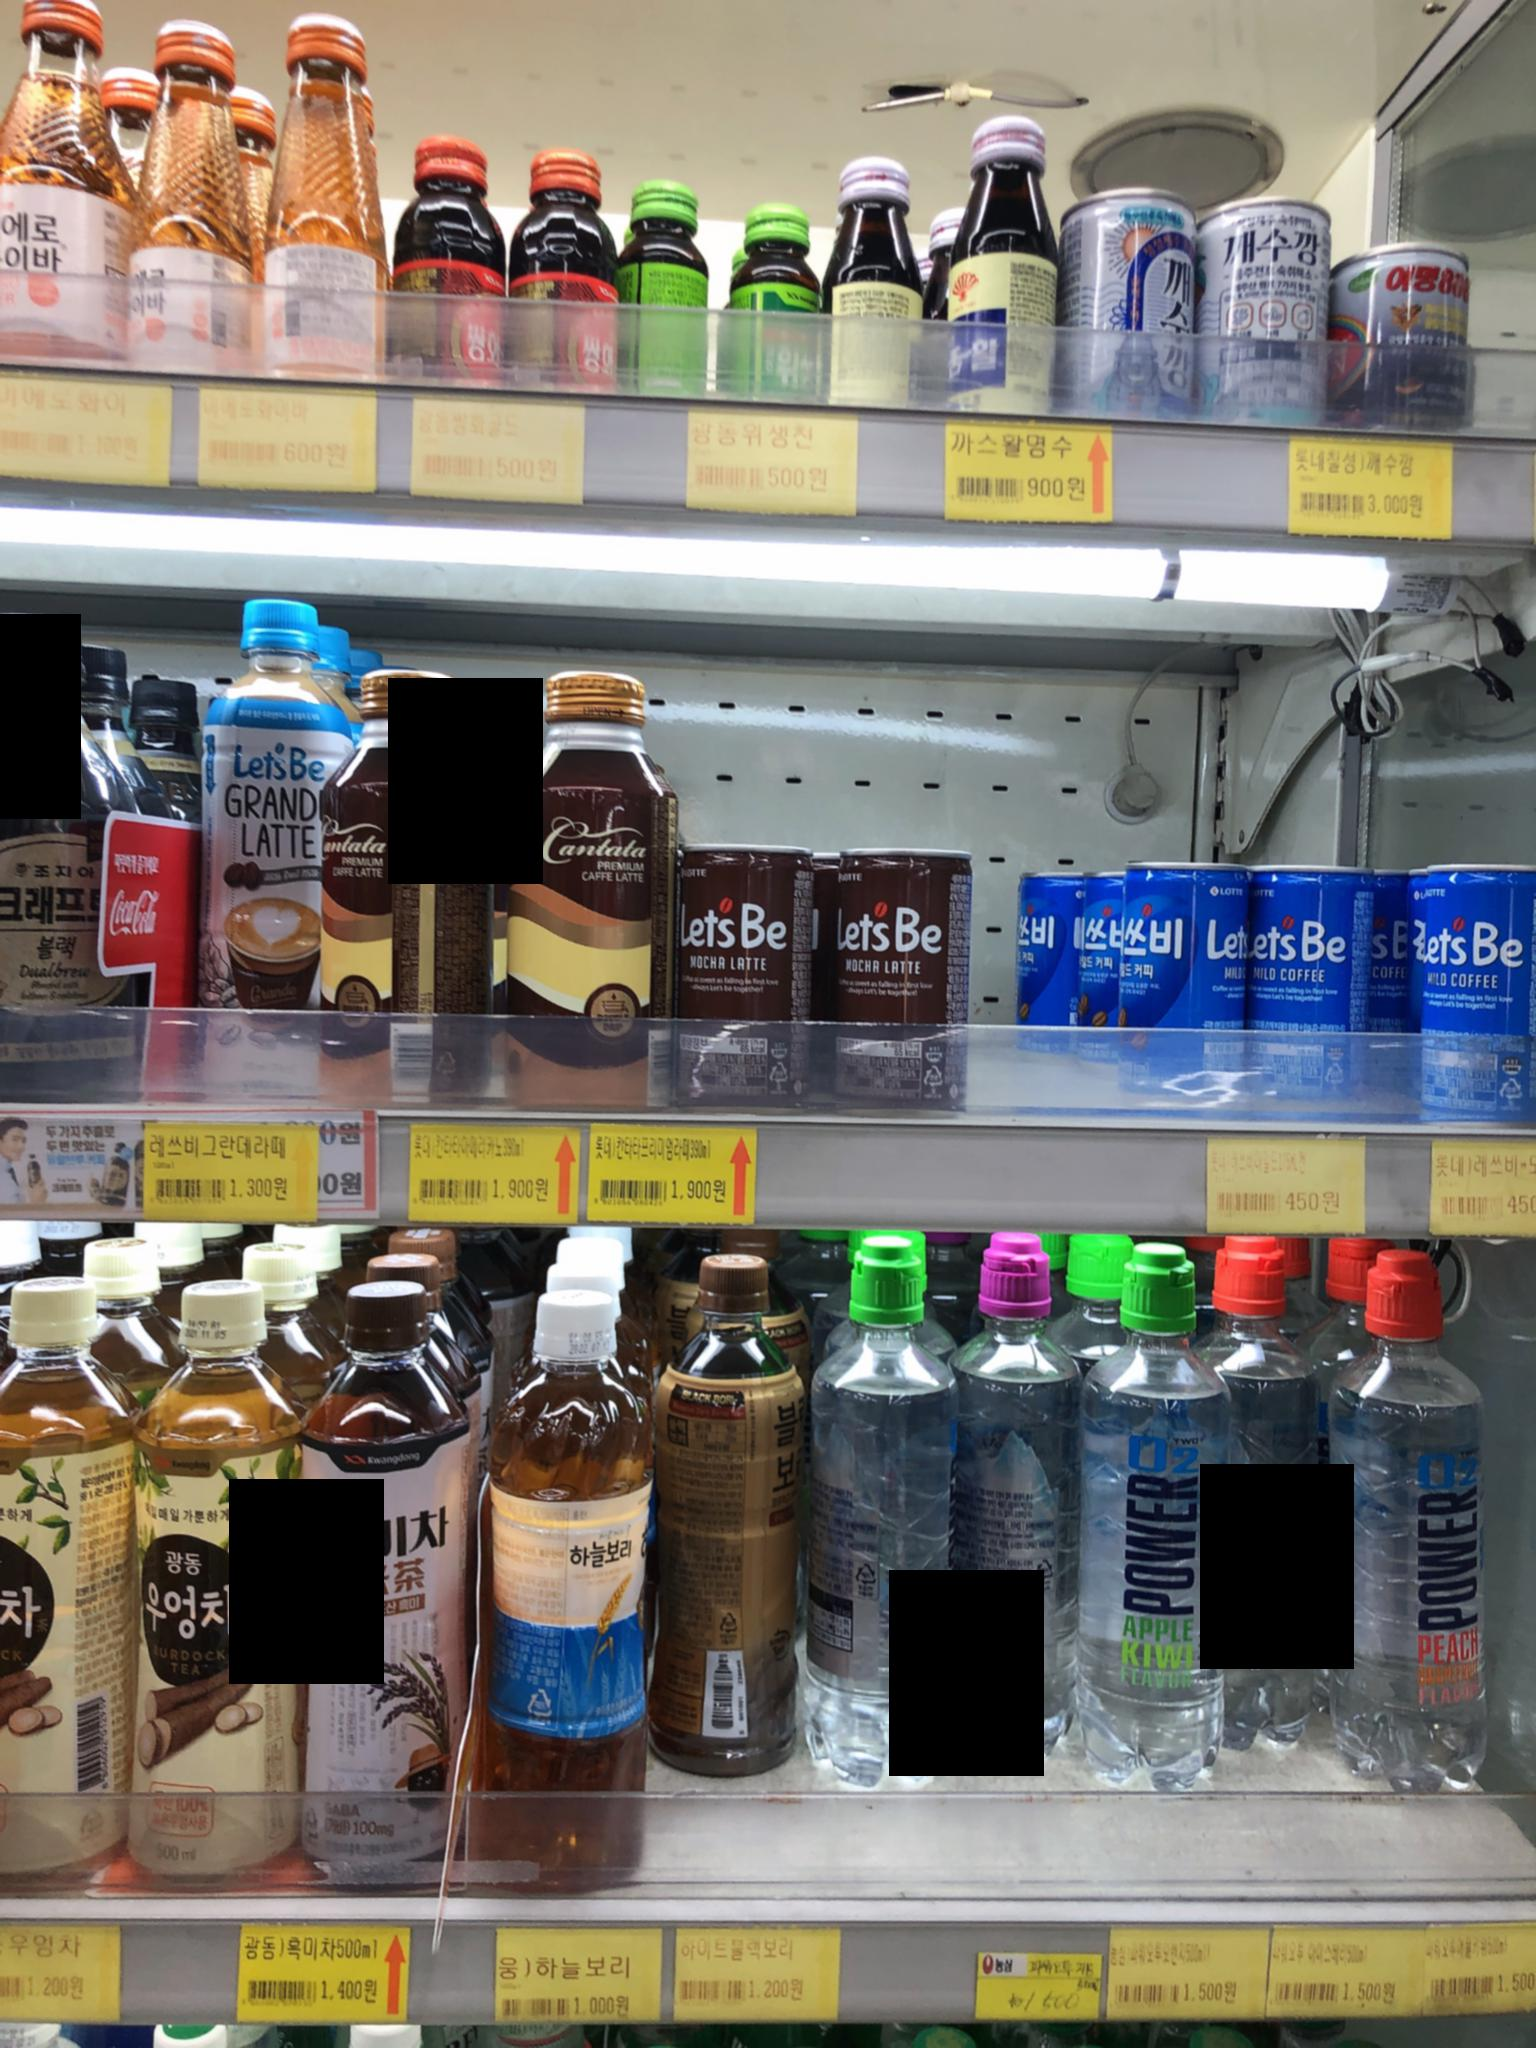haneulbori: (487, 1292, 655, 1893)
letsbe: (1409, 858, 1536, 1126), (1123, 851, 1257, 1097), (1249, 851, 1370, 1103)
powerO2_orange: (1342, 1230, 1536, 1814)
